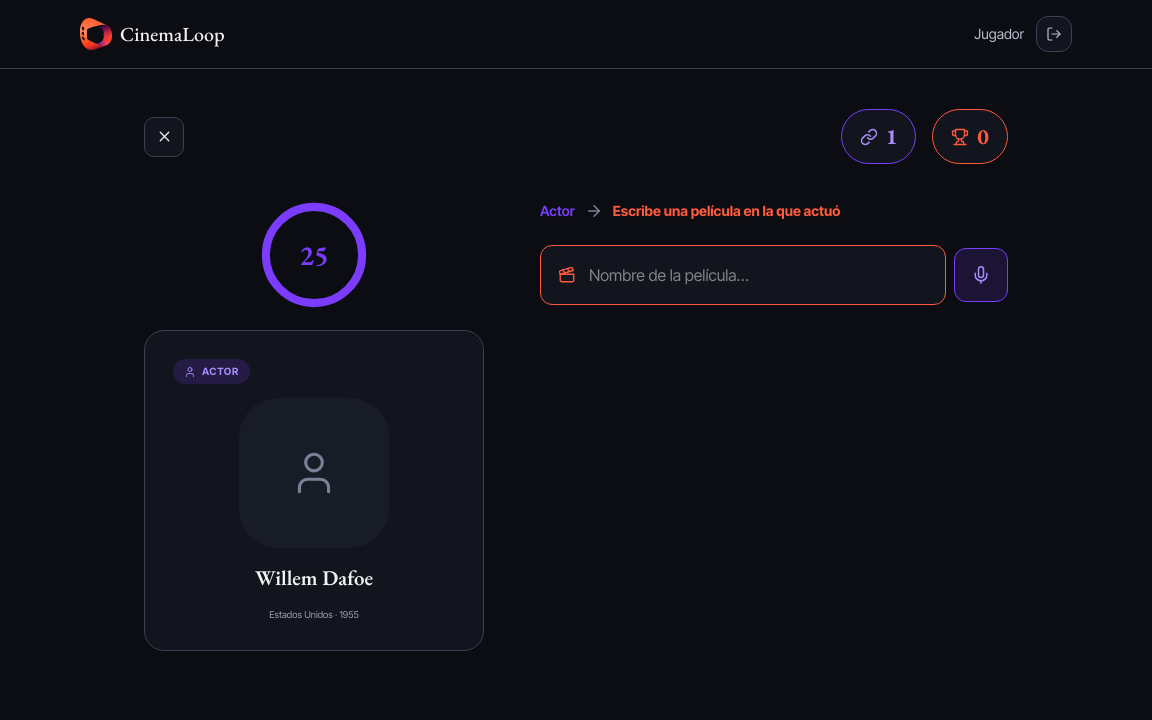
it: PartidaPage › retirada voluntaria (CIN-42) › pulsar el botón de cerrar pide confirmación antes de terminar
Click the button named "Terminar partida" at (164, 136), box [144,116,184,156]
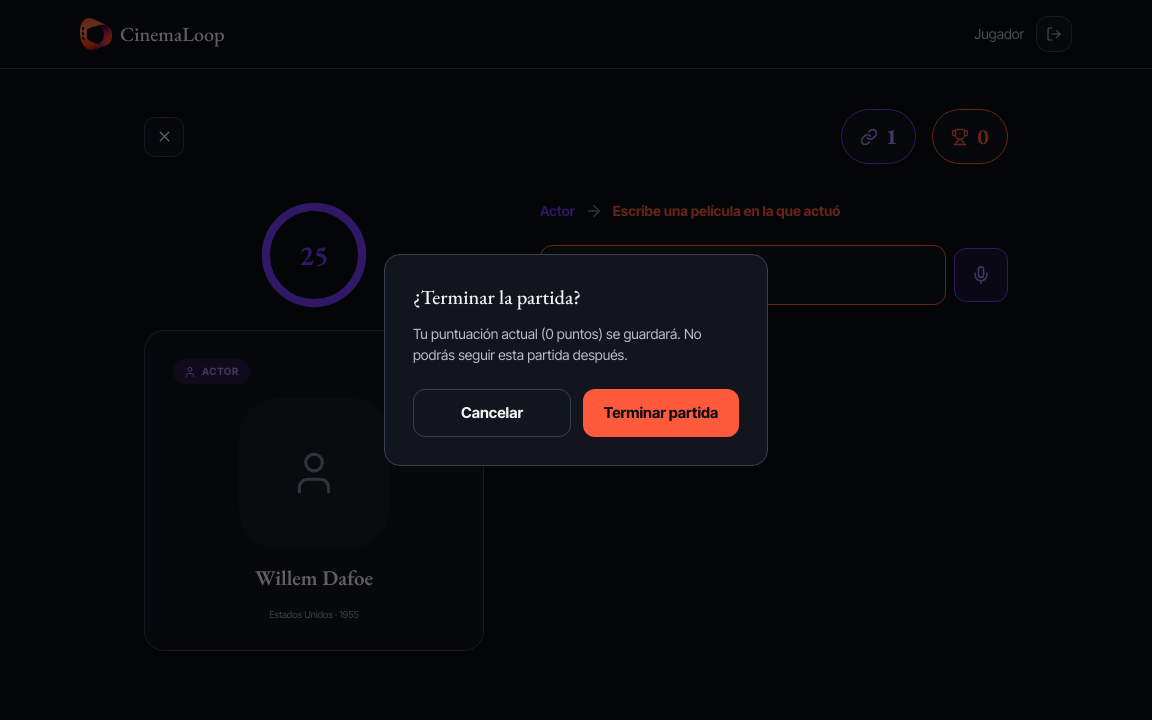
Result: the dialog is shown
